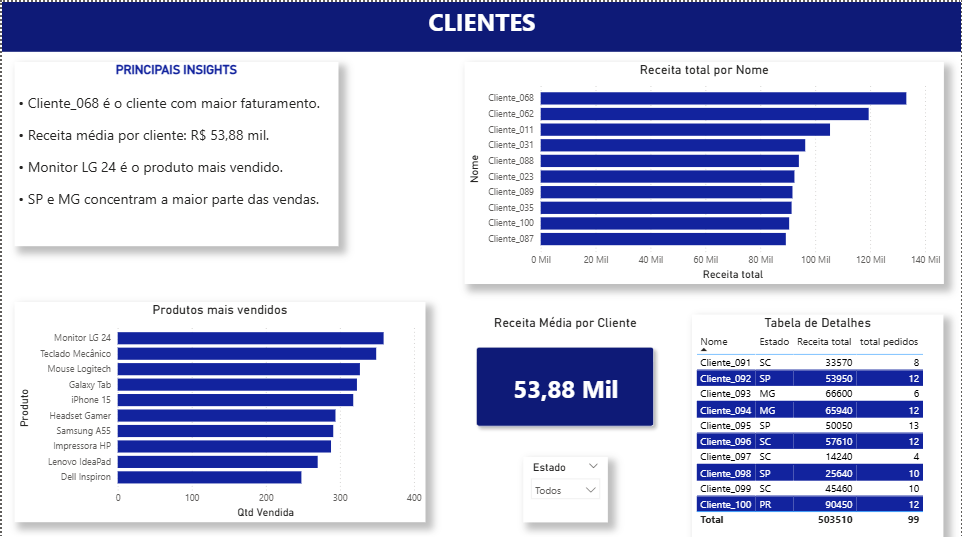

The page's visual inventory and layout, read from the dashboard file:
{"tool":"powerbi","page":{"name":"Clientes","canvas":[1280,720],"ordinal":3},"visuals":[{"type":"textbox","box":[0,0,1280,66.7],"z":0},{"type":"tableEx","title":"Tabela de Detalhes","fields":{"Values":["Clientes.Nome","Clientes.Estado","Vendas.Receita total","Vendas.total pedidos"]},"box":[920.8,417,335.1,303.3],"z":1000},{"type":"slicer","fields":{"Values":["Clientes.Estado"]},"box":[694.6,606.5,112.5,86.8],"z":2000},{"type":"cardVisual","title":"Receita Média por Cliente","fields":{"Data":["Clientes.Receita Média por Cliente"]},"box":[602.9,417,295.9,178.5],"z":3000},{"type":"barChart","fields":{"Category":["Clientes.Nome"],"Y":["Vendas.Receita total"]},"box":[616.3,80.7,639.5,295.9],"z":4000},{"type":"clusteredBarChart","title":"Produtos mais vendidos","fields":{"Category":["Produtos.Produto"],"Y":["Vendas.Qtd Vendida"]},"box":[17.1,399.9,547.8,293.5],"z":5000},{"type":"textbox","title":"PRINCIPAIS INSIGHTS","box":[17.1,80.7,431.7,245.8],"z":5001}]}

Visuals, with their boxes in screenshot pixels (x1, y1, x2, y2), scaled from the page's 1280x720 canvas onto the 962x537 screenshot:
textbox: bbox=(0, 0, 961, 50)
"Tabela de Detalhes" tableEx: bbox=(692, 311, 944, 536)
slicer - Clientes.Estado: bbox=(522, 452, 607, 517)
"Receita Média por Cliente" cardVisual: bbox=(453, 311, 676, 444)
barChart - Clientes.Nome x Vendas.Receita total: bbox=(463, 60, 944, 281)
"Produtos mais vendidos" clusteredBarChart: bbox=(13, 298, 425, 517)
"PRINCIPAIS INSIGHTS" textbox: bbox=(13, 60, 337, 244)
